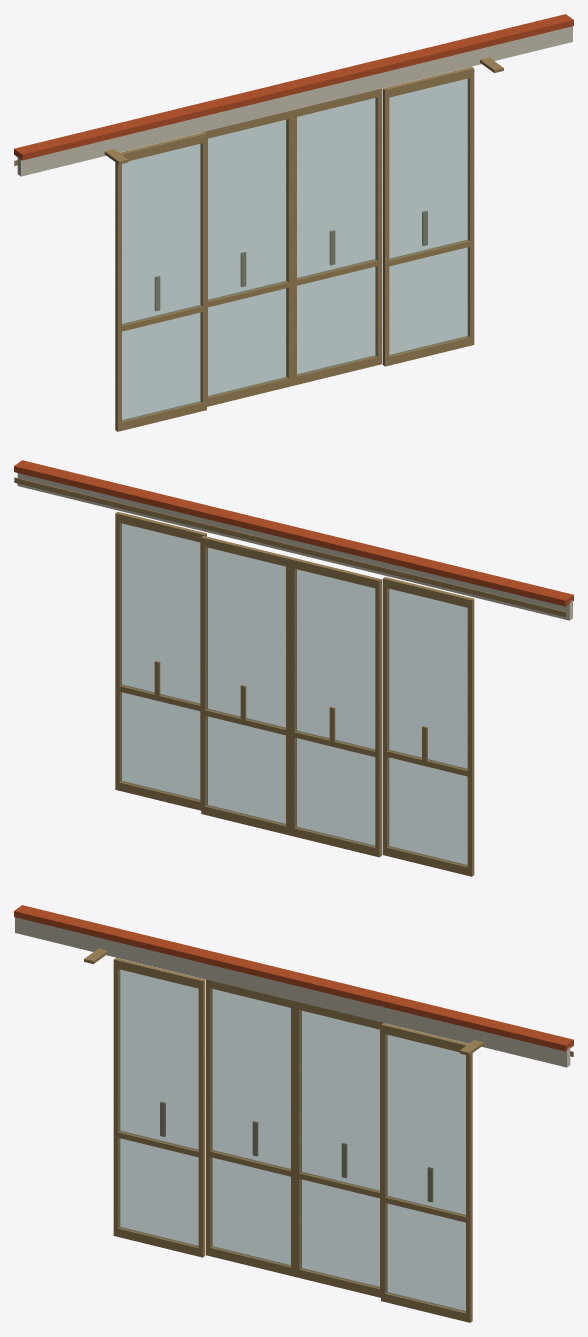
Rendered from living_public_r001.glb.
3 views of the same model, one above another, from view 1: azimuth 30°, elevation 25°; view 2: azimuth 150°, elevation 25°; view 3: azimuth 330°, elevation 25° (orthographic).
Visible parts, largest first — view 1: Panel_R0_field, Panel_L0_field, Panel_R1_field, Panel_L1_field, track_back, track_cap, Panel_R0_stile_left, Panel_R0_stile_right, Panel_L0_stile_right, Panel_L1_stile_right, Panel_R1_stile_right, Panel_L0_stile_left (+13 smaller); view 2: Panel_L1_field, Panel_R0_field, Panel_L0_field, Panel_R1_field, track_cap, track_back, track_brass, Panel_L0_stile_left, Panel_L0_stile_right, Panel_L1_stile_left, Panel_L1_stile_right, Panel_R1_stile_right (+15 smaller); view 3: Panel_L0_field, Panel_L1_field, Panel_R1_field, Panel_R0_field, track_back, track_cap, Panel_L0_stile_right, Panel_L0_stile_left, Panel_R0_stile_left, Panel_R1_stile_left, Panel_L1_stile_left, Panel_R0_stile_right (+13 smaller).
Boxes of the visible parts, box(x1,y1,x2,y2) form: Panel_R0_field: box(389, 78, 469, 355); Panel_L0_field: box(122, 143, 201, 421); Panel_R1_field: box(297, 98, 376, 375); Panel_L1_field: box(208, 119, 287, 397); track_back: box(17, 26, 572, 176); track_cap: box(14, 14, 573, 160); Panel_R0_stile_left: box(382, 87, 389, 366); Panel_R0_stile_right: box(467, 67, 474, 345); Panel_L0_stile_right: box(200, 132, 206, 410); Panel_L1_stile_right: box(286, 110, 292, 386); Panel_R1_stile_right: box(375, 88, 381, 364); Panel_L0_stile_left: box(115, 153, 121, 431); Panel_L1_field: box(295, 569, 375, 846); Panel_R0_field: box(120, 523, 200, 800); Panel_L0_field: box(387, 588, 467, 865); Panel_R1_field: box(206, 547, 285, 824); track_cap: box(14, 460, 573, 606); track_back: box(17, 473, 572, 620); track_brass: box(14, 477, 566, 617); Panel_L0_stile_left: box(467, 597, 474, 876); Panel_L0_stile_right: box(382, 577, 389, 855); Panel_L1_stile_left: box(375, 578, 381, 857); Panel_L1_stile_right: box(290, 557, 296, 836); Panel_R1_stile_right: box(201, 536, 207, 814); Panel_L0_field: box(118, 969, 198, 1246); Panel_L1_field: box(211, 989, 290, 1266); Panel_R1_field: box(300, 1010, 379, 1288); Panel_R0_field: box(386, 1034, 465, 1312); track_back: box(15, 917, 570, 1067); track_cap: box(14, 905, 573, 1051); Panel_L0_stile_right: box(198, 978, 205, 1257); Panel_L0_stile_left: box(113, 958, 120, 1236); Panel_R0_stile_left: box(381, 1023, 387, 1301); Panel_R1_stile_left: box(295, 1001, 301, 1277); Panel_L1_stile_left: box(206, 979, 212, 1255); Panel_R0_stile_right: box(466, 1044, 472, 1322).
Size of the model in its own units: 5.85 by 3.06 by 0.44.
Materials: 4 (3 with a texture image).
